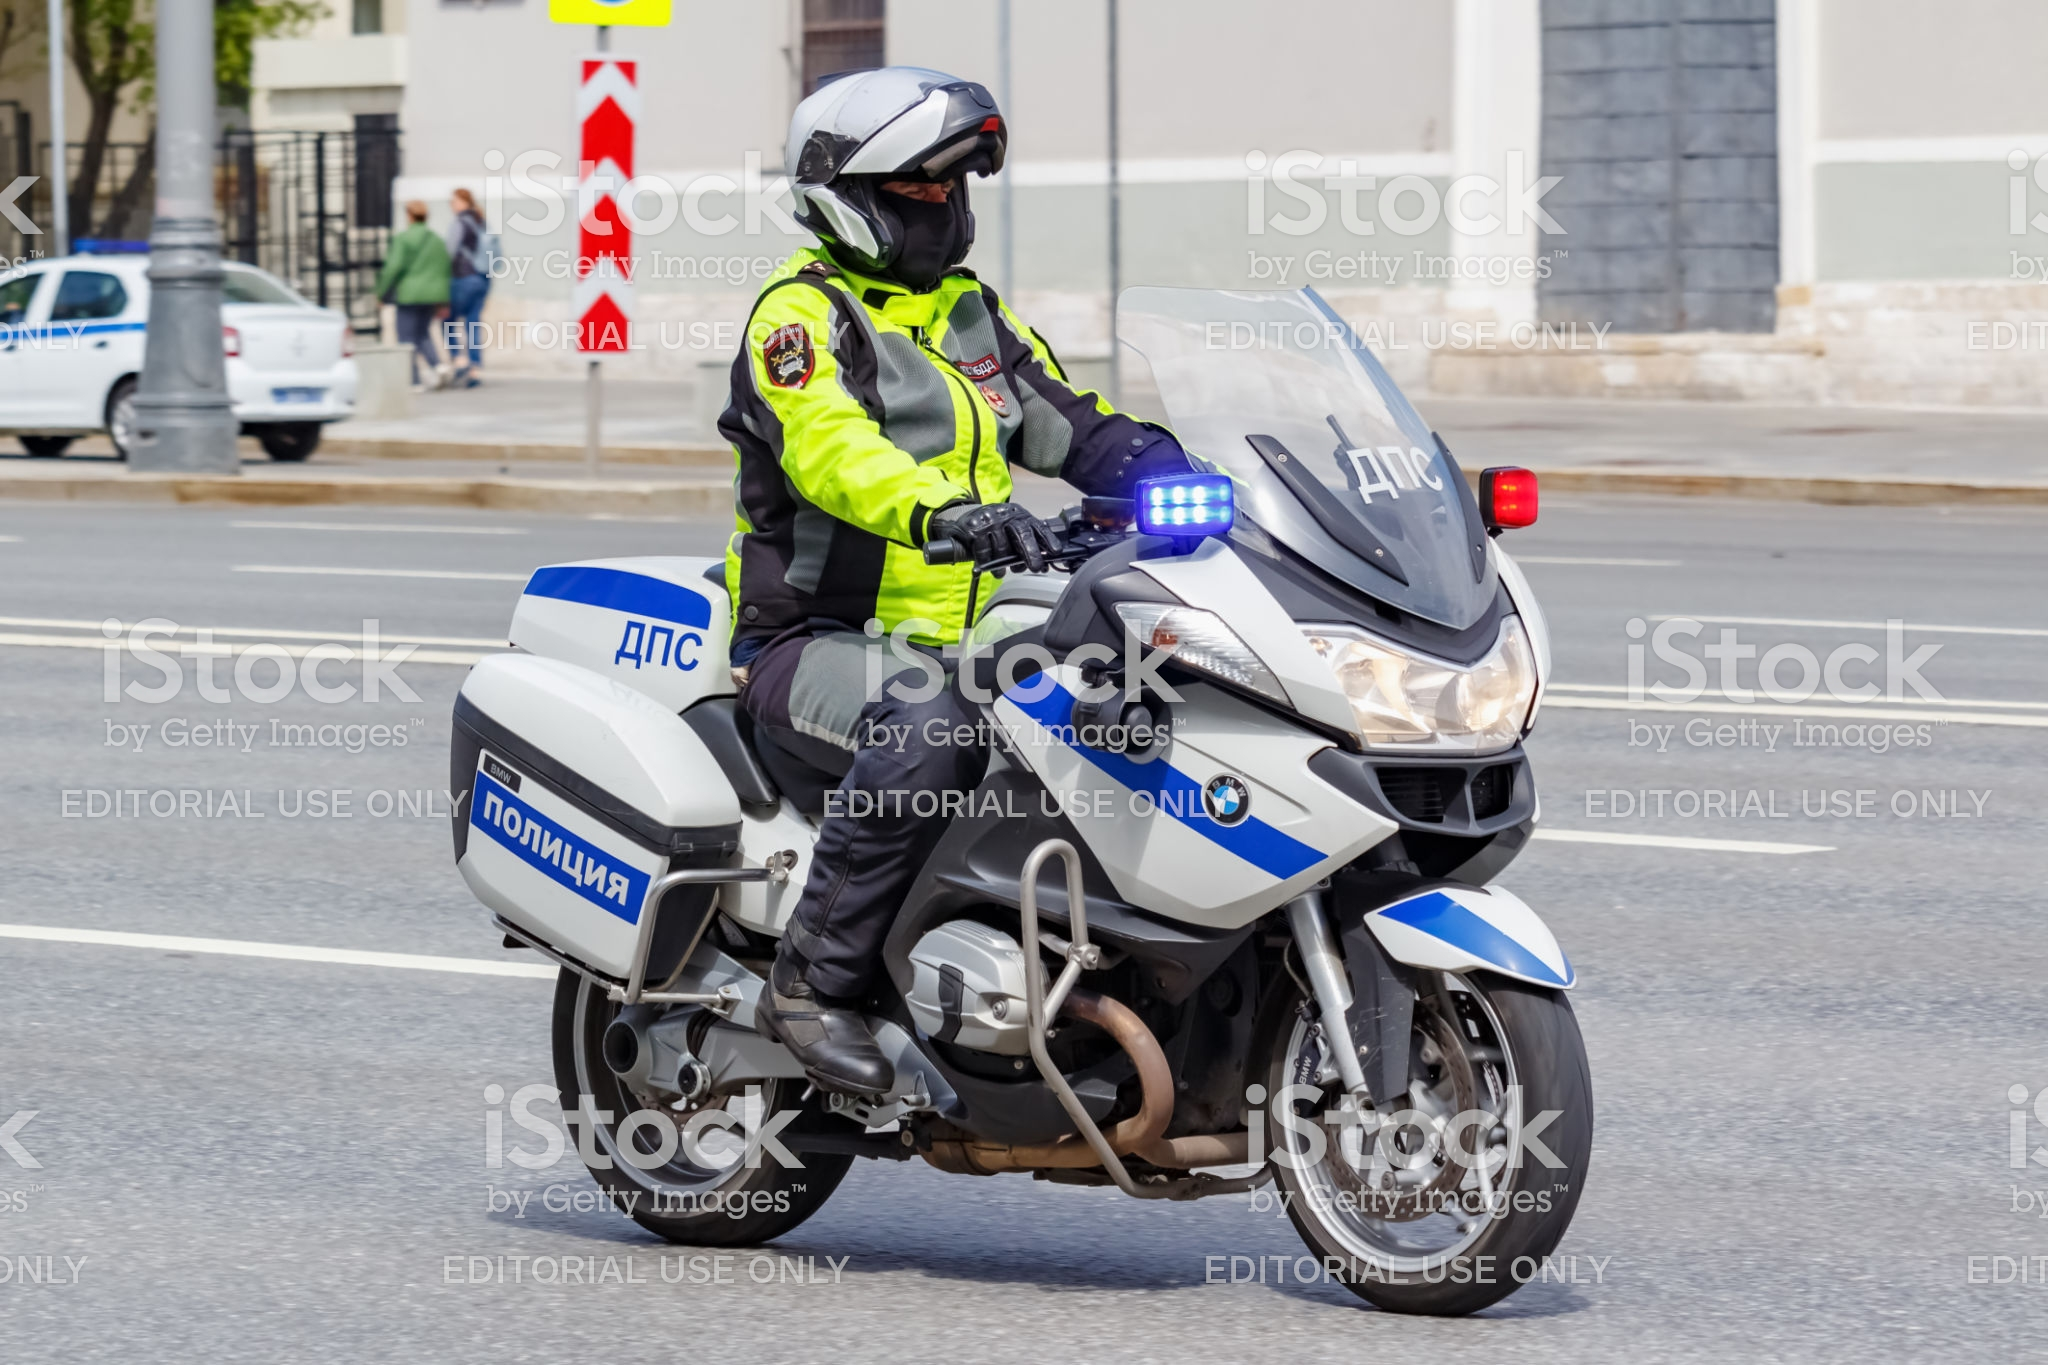helmet: (796, 81, 1011, 279)
